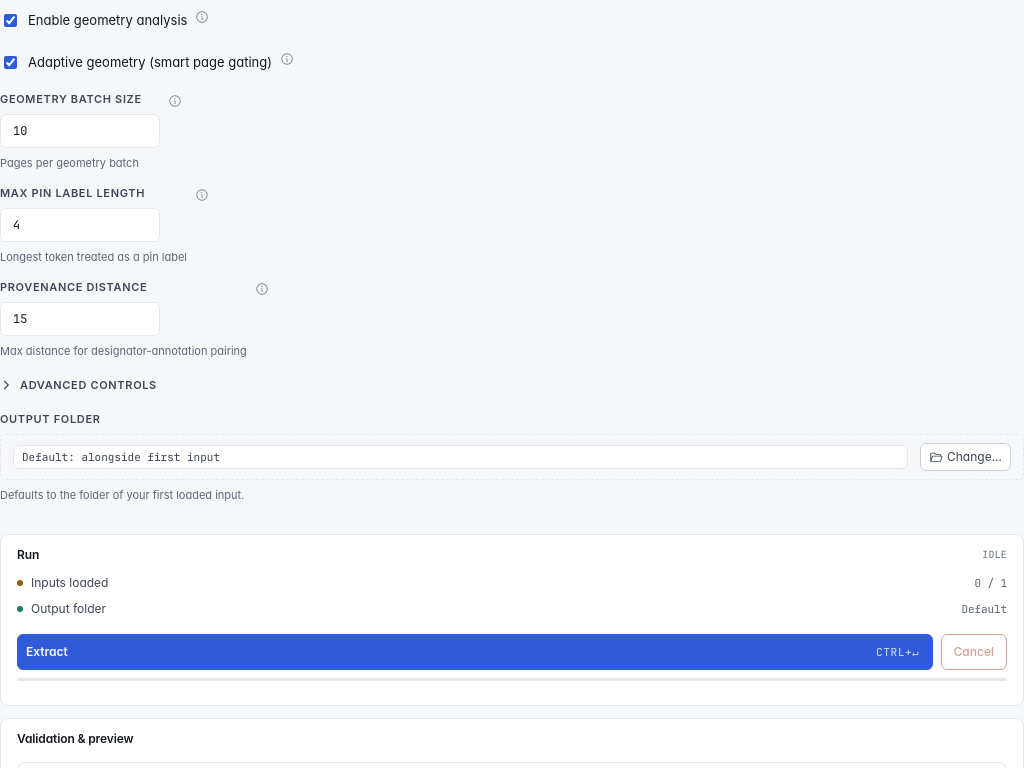
RefDesExtractorTool numeric tuning fields › renders the annotation page timeout in the advanced panel with its default
The image size is (1024, 768).
(page scrolled)
Click the button "Advanced controls": (78, 385) [0,374,157,396]
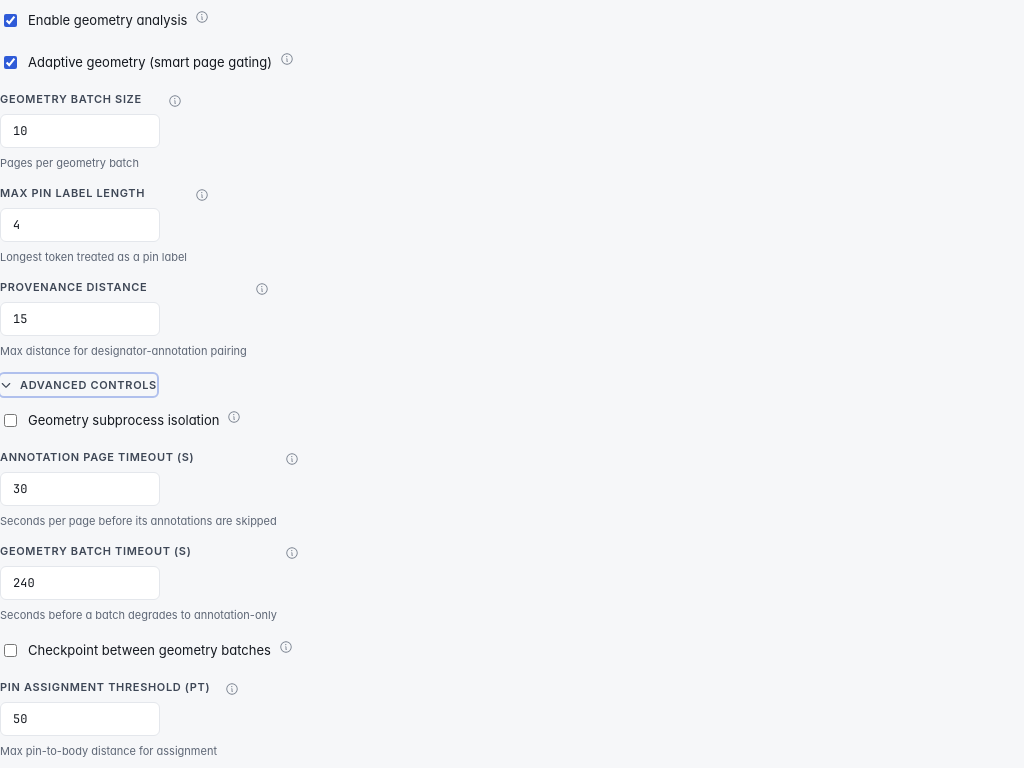
expect the number field labelled "Annotation page timeout (s)" holds "30": met, box [0,472,160,506]
